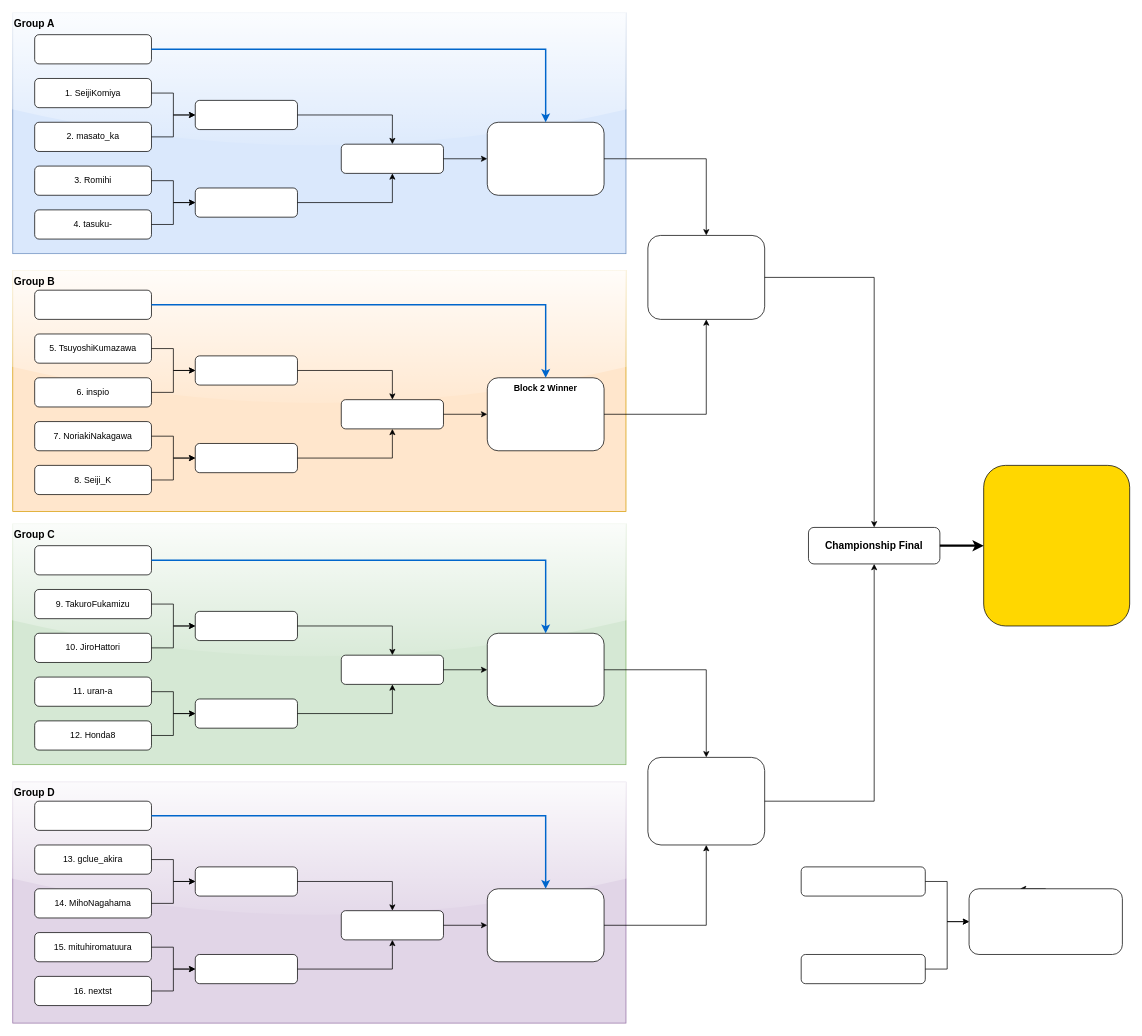
The diagram is 1142 pixels wide and 1036 high, and some of its shapes have lost their labels. Each missing label, with the centre of its shape:
Block 1 Winner: pixel 545 158
Block 3 Winner: pixel 545 669
Block 4 Winner: pixel 545 925
S1. Yuzuki_KAIT: pixel 92 49
S2. akio123: pixel 92 304
S3. KTHS_ohtsubo: pixel 92 560
S4. HibiTatsu: pixel 92 815
Semi Final 1: pixel 706 277
Semi Final 2: pixel 706 801
Third place: pixel 1045 921
🏆 Champion 🏆 Secnd place: pixel 1056 545
